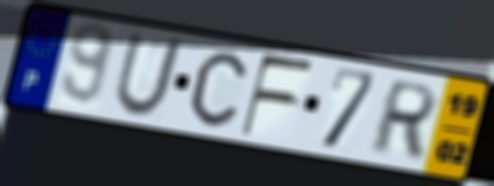7: (321, 65, 379, 152)
9: (59, 20, 118, 112)
C: (187, 49, 250, 130)
F: (237, 52, 318, 140)
R: (365, 77, 442, 160)
U: (111, 31, 187, 120)
